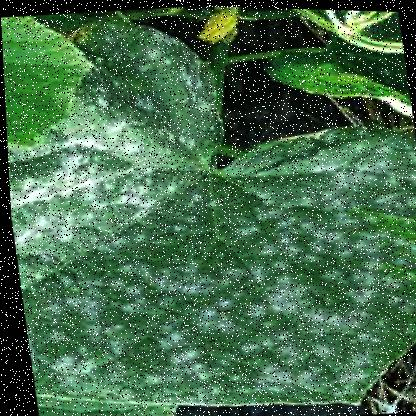PowderyMildew: (38, 183, 415, 392), (5, 119, 216, 285)
